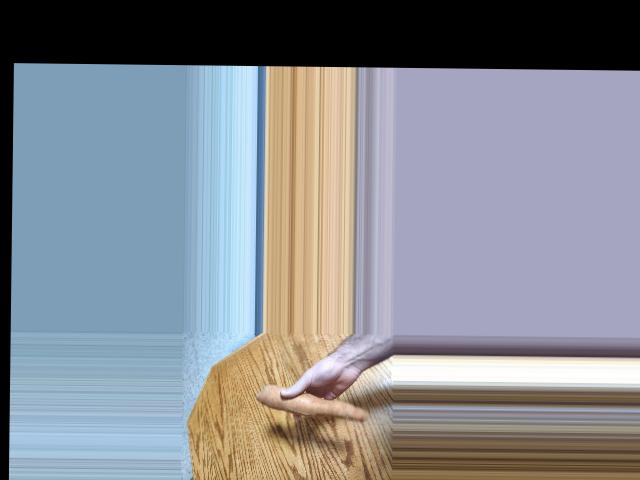sweet_potato: (258, 394, 367, 416)
